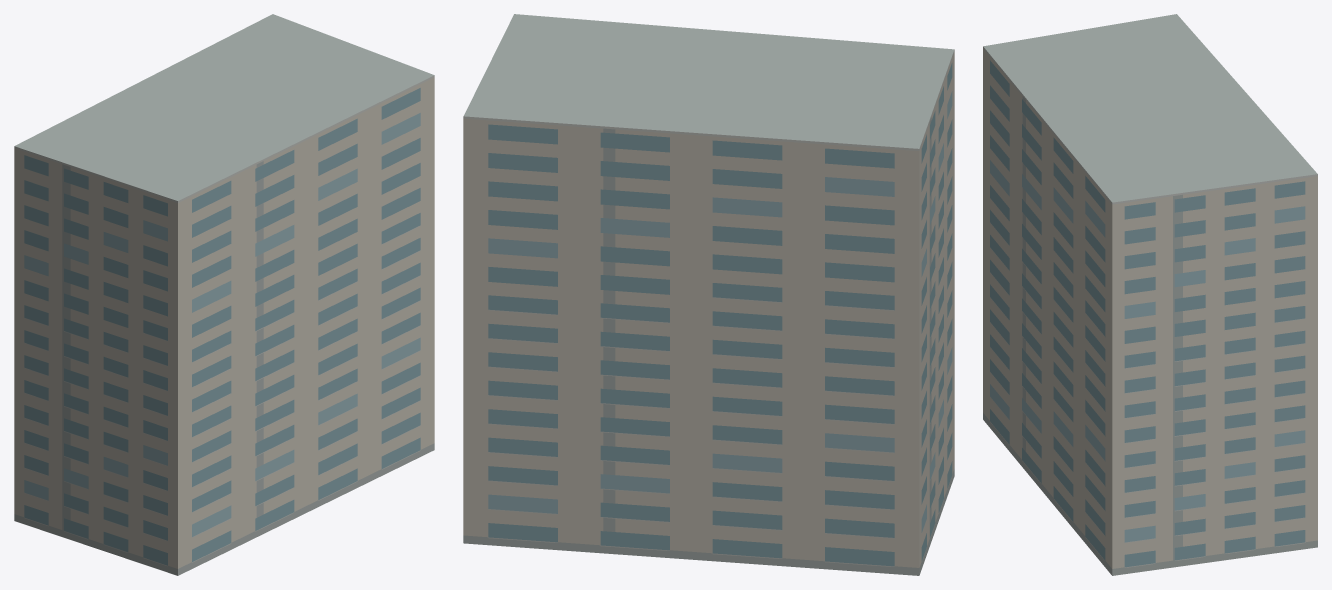
File: residential-f154c45b-eee1-4a5c-bf7f-1a70e52ba51a.glb
3 views of the same model, side by side, from view 1: azimuth 30°, elevation 25°; view 2: azimuth 150°, elevation 25°; view 3: azimuth 270°, elevation 25° (orthographic). The views are drawn at different scales.
Parts seen in each view (by area): view 1: residential-f154c45b-eee1-4a5c-bf7f-1a70e52ba51a.tmp; view 2: residential-f154c45b-eee1-4a5c-bf7f-1a70e52ba51a.tmp; view 3: residential-f154c45b-eee1-4a5c-bf7f-1a70e52ba51a.tmp.
Part boxes in pixels (x1,y1,x2,y2): residential-f154c45b-eee1-4a5c-bf7f-1a70e52ba51a.tmp: (14,14,434,575); residential-f154c45b-eee1-4a5c-bf7f-1a70e52ba51a.tmp: (463,14,954,575); residential-f154c45b-eee1-4a5c-bf7f-1a70e52ba51a.tmp: (983,14,1317,575).
Size of the model in its own units: 50.94 by 47 by 38.21.
